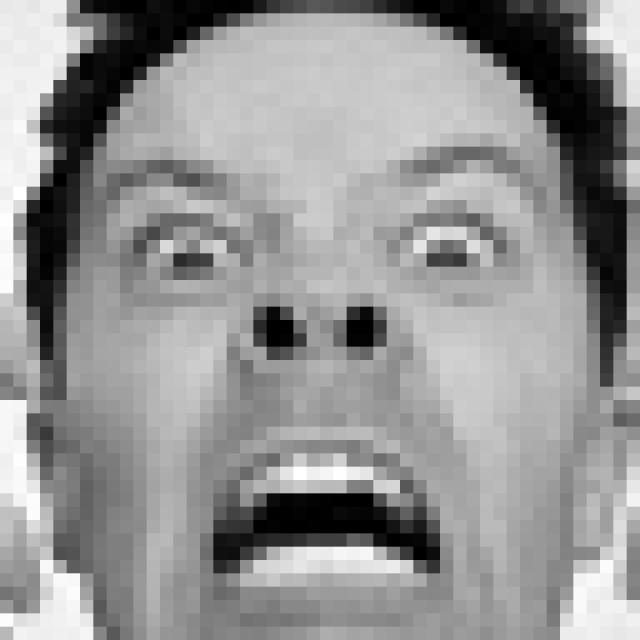angry: (93, 142, 544, 616)
